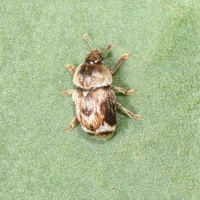insect: (60, 34, 141, 139)
